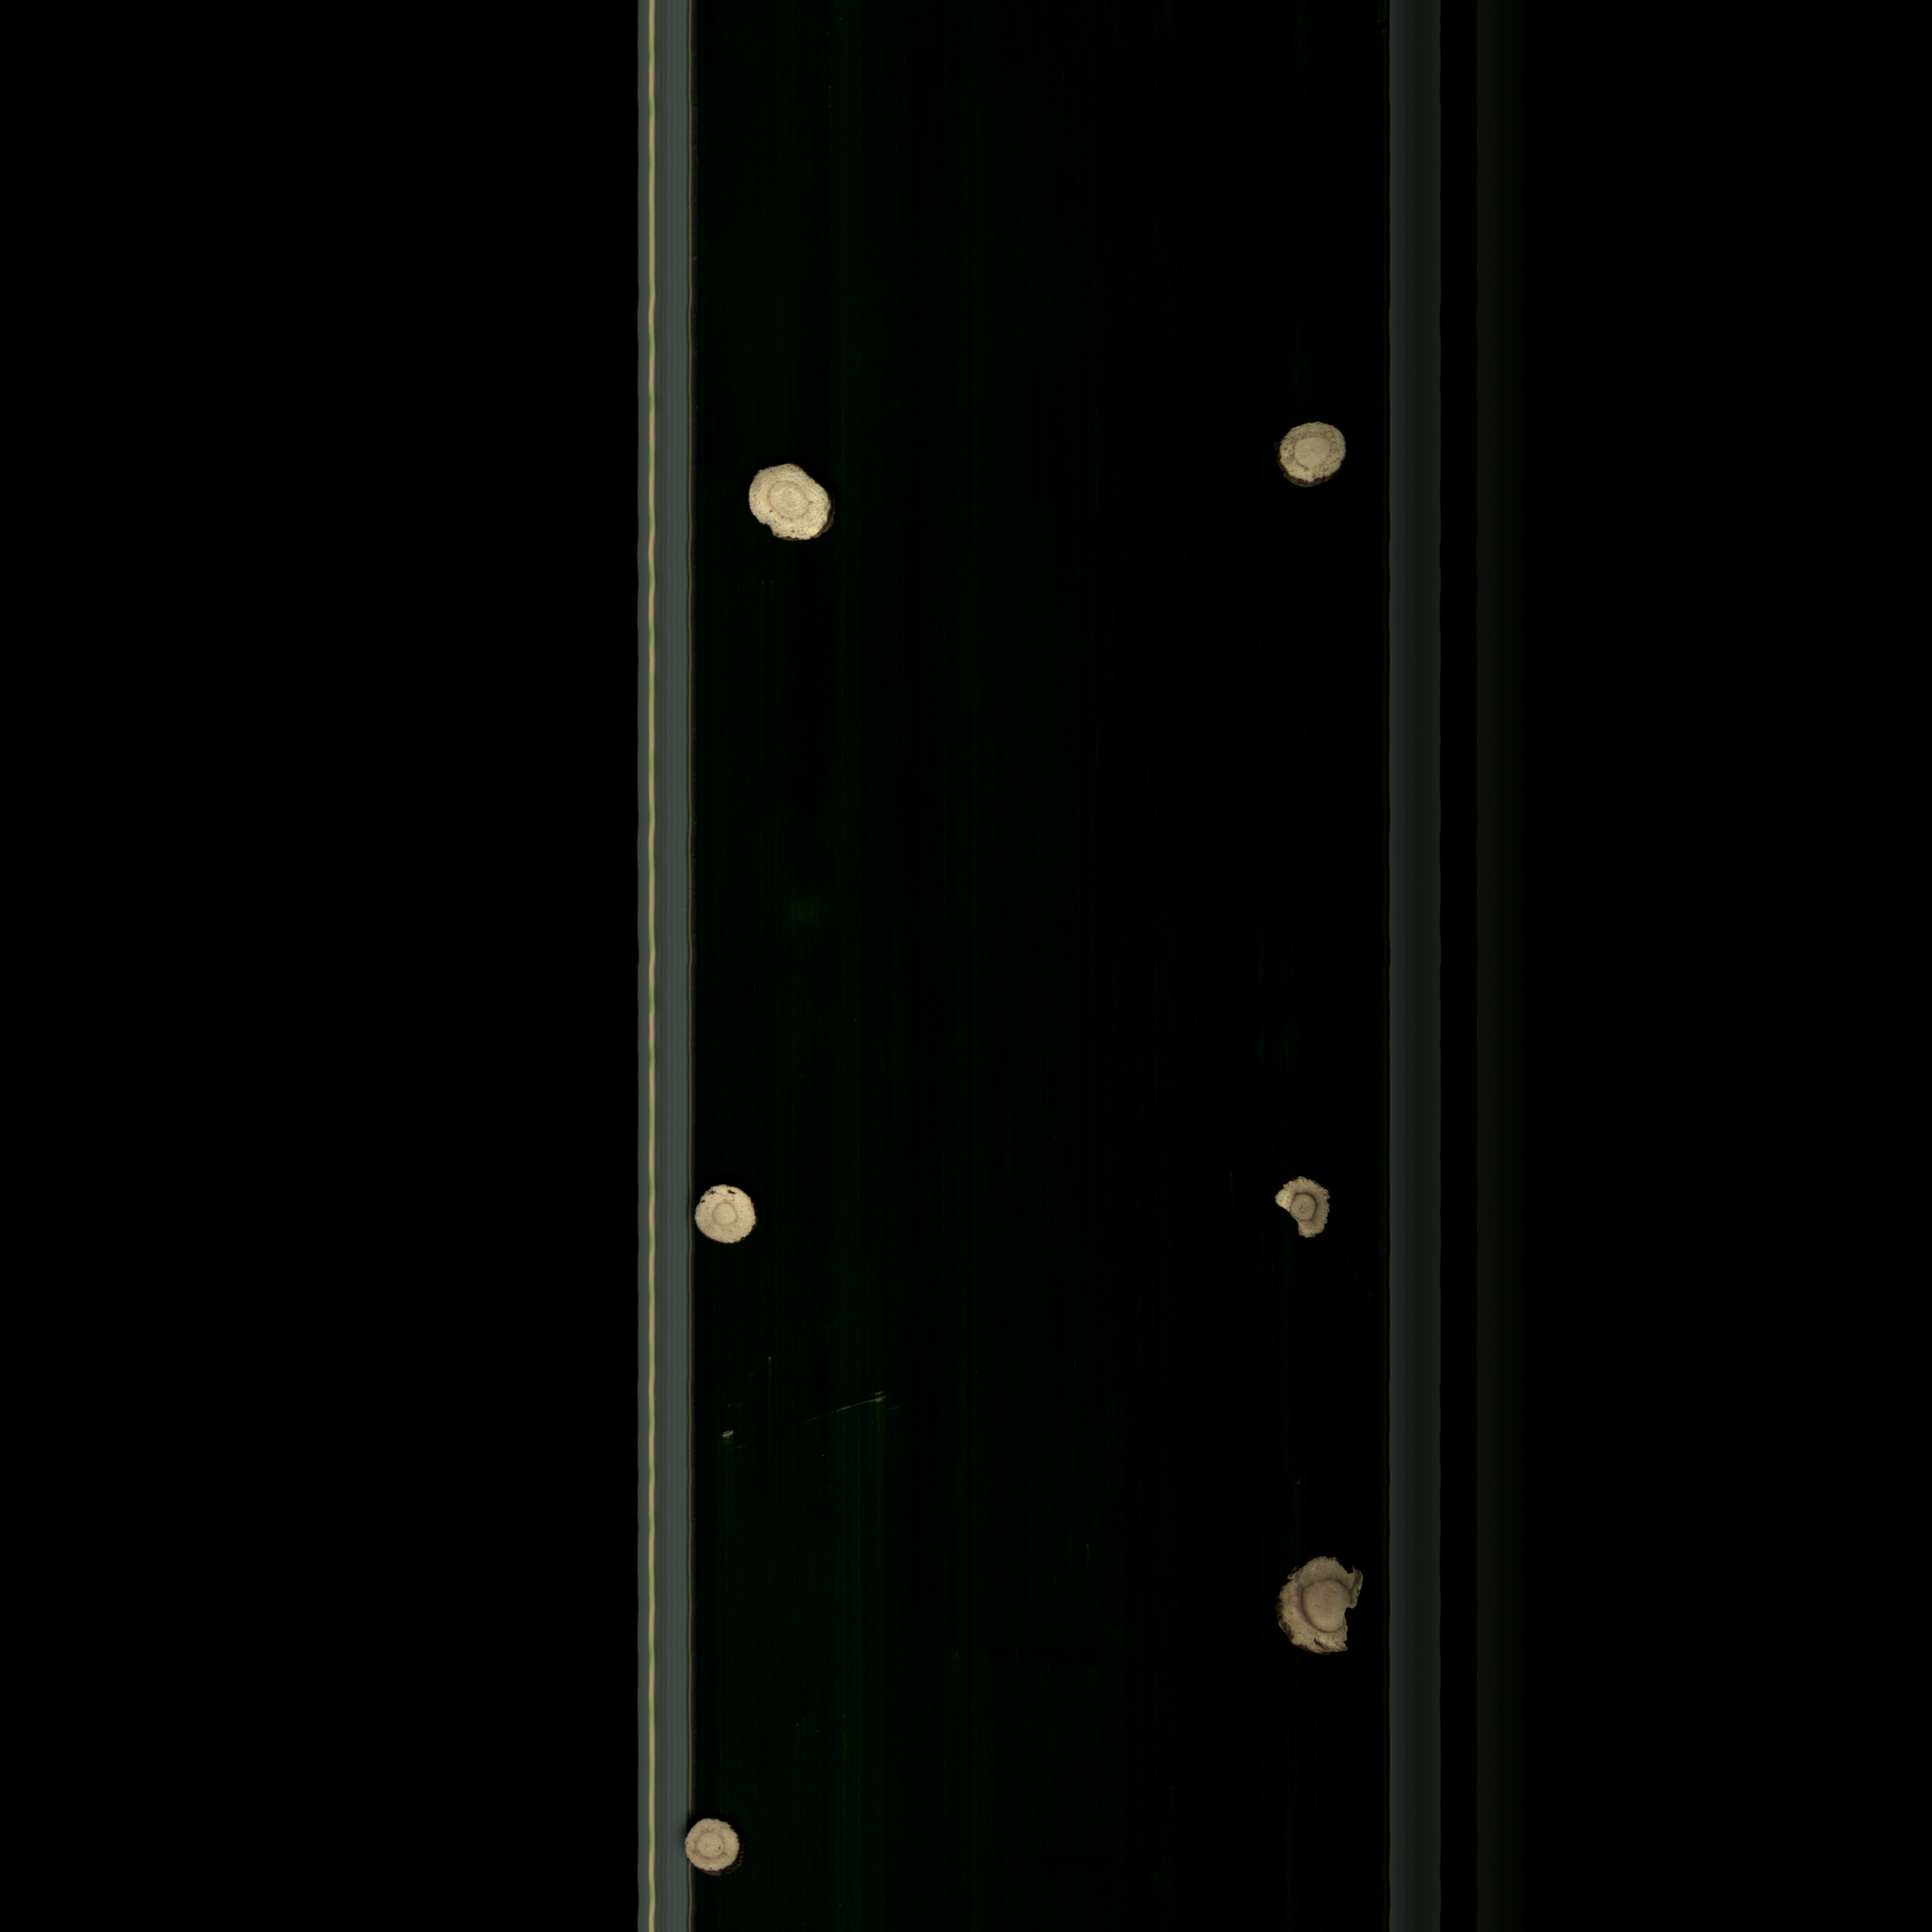hole: (692, 1180, 768, 1258)
moldy: (1276, 1548, 1375, 1670), (1272, 412, 1359, 492), (1270, 1175, 1334, 1247)
